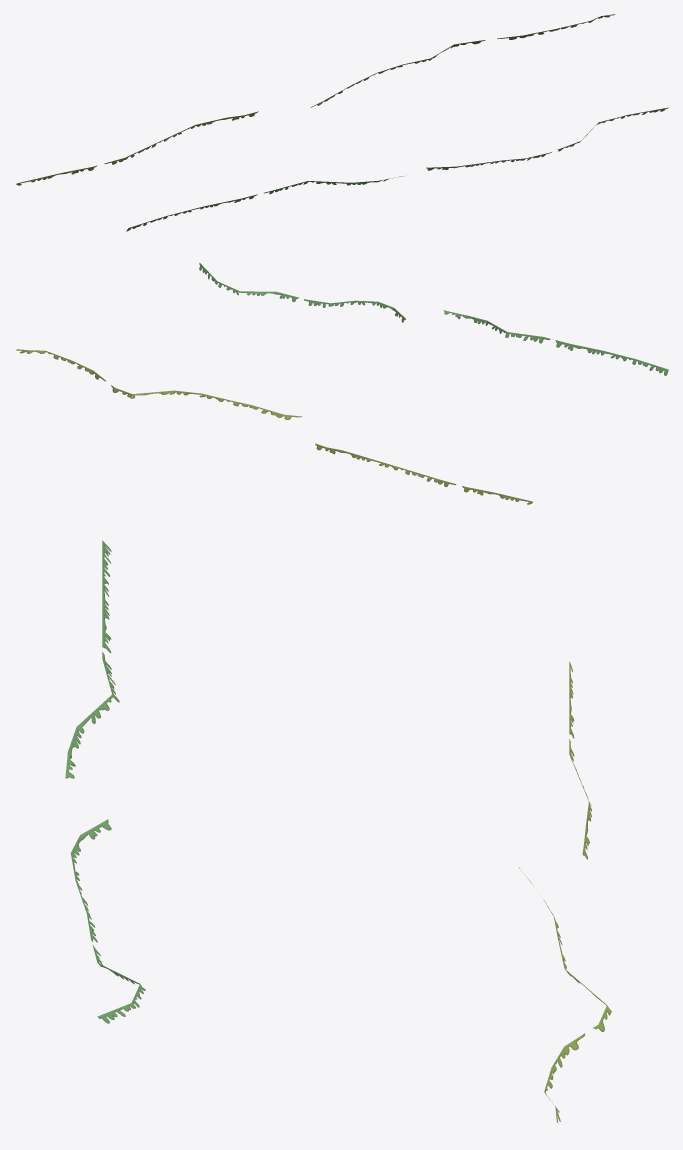
File: Mesh_Battle_Forest_Ground_16.FBX
The picture shows the model from 3 angles, top to bottom: view 1: azimuth 30°, elevation 25°; view 2: azimuth 150°, elevation 25°; view 3: azimuth 270°, elevation 25°; orthographic projection. The views are drawn at different scales.
Parts seen in each view (by area): view 1: Mesh_Battle_Forest_Ground_16; view 2: Mesh_Battle_Forest_Ground_16; view 3: Mesh_Battle_Forest_Ground_16.
Part boxes in pixels (x1,y1,x2,y2): Mesh_Battle_Forest_Ground_16: (16, 14, 668, 231); Mesh_Battle_Forest_Ground_16: (16, 263, 668, 504); Mesh_Battle_Forest_Ground_16: (65, 540, 611, 1122).
Size of the model in its own units: 2279 by 258 by 1012.
